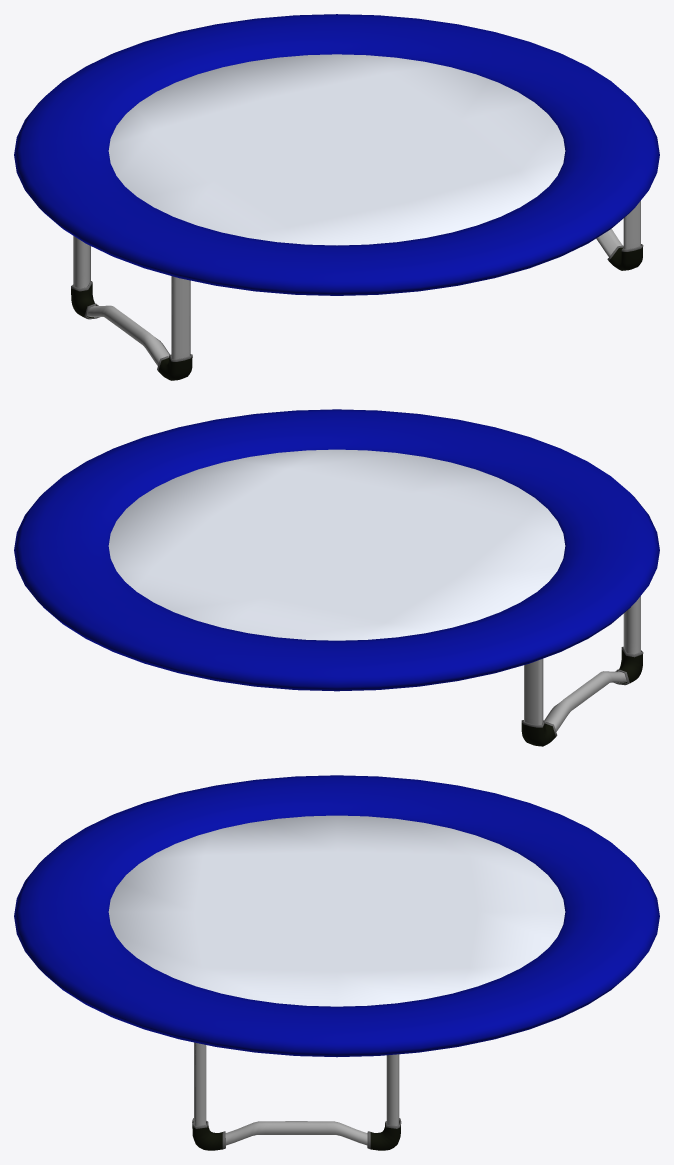
File: trampoline_blue.glb
3 views of the same model, one above another, from view 1: azimuth 30°, elevation 25°; view 2: azimuth 150°, elevation 25°; view 3: azimuth 270°, elevation 25° (orthographic).
Parts seen in each view (by area): view 1: Circle.003, BezierCurve.003_Mesh.002, BezierCurve.003_Mesh.003; view 2: Circle.003, BezierCurve.003_Mesh.002, BezierCurve.003_Mesh.003; view 3: Circle.003, BezierCurve.003_Mesh.002, BezierCurve.003_Mesh.003.
Boxes of the visible parts, x1,y1,x2,y2 form: Circle.003: (14,14,659,295); BezierCurve.003_Mesh.002: (73,201,640,365); BezierCurve.003_Mesh.003: (71,244,643,380); Circle.003: (14,409,659,691); BezierCurve.003_Mesh.002: (524,596,640,731); BezierCurve.003_Mesh.003: (521,646,643,746); Circle.003: (14,775,659,1057); BezierCurve.003_Mesh.002: (194,1042,399,1145); BezierCurve.003_Mesh.003: (192,1118,401,1150).
Bounding box in the file's own units: 1.71 × 0.3992 × 1.71.
